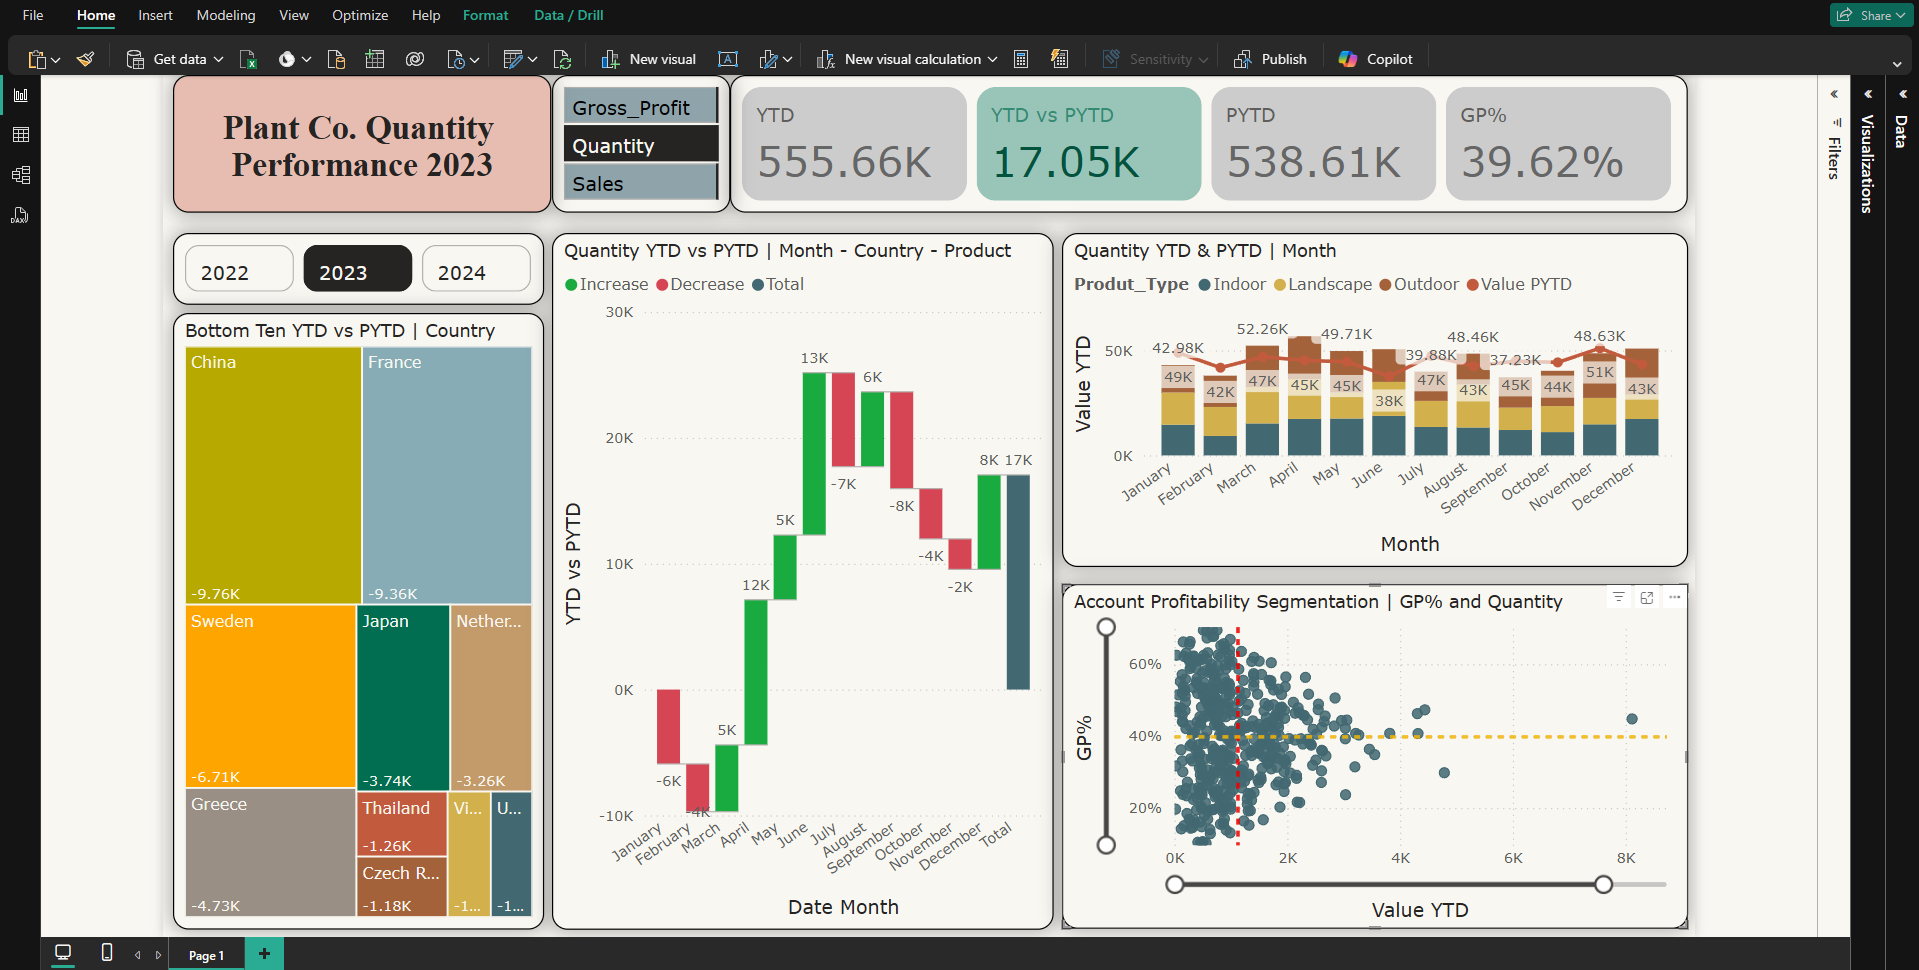

What the dashboard file says about the page in this screenshot:
{"tool":"powerbi","page":{"name":"Page 1","canvas":[1280,720],"ordinal":0},"visuals":[{"type":"cardVisual","fields":{"Data":["_Measures.switch_YTD","_Measures.YTD vs PYTD","_Measures.switch_PYTD","_Measures.GP%"]},"box":[473.6,0,800,115.5],"z":0},{"type":"advancedSlicerVisual","fields":{"Values":["Dim_Date.Date.Variation.Date Hierarchy.Year"]},"box":[8.2,131.8,310,60],"z":1000},{"type":"advancedSlicerVisual","fields":{"Values":["Slicer_values.Values"]},"box":[324.5,0,149.1,115.5],"z":2000},{"type":"treemap","title":"Bottom Ten YTD vs PYTD | Country","fields":{"Group":["Dim_Account.country"],"Values":["_Measures.YTD vs PYTD"]},"box":[8.2,199.1,310,514.5],"z":3000},{"type":"waterfallChart","fields":{"Y":["_Measures.YTD vs PYTD"],"Category":["Dim_Date.Date.Variation.Date Hierarchy.Month","Dim_Account.country","Dim_Product.Produt_Type","Dim_Product.Product_Name"]},"box":[324.5,131.8,419.1,581.8],"z":4000},{"type":"lineStackedColumnComboChart","fields":{"Y":["_Measures.switch_YTD"],"Y2":["_Measures.switch_PYTD"],"Category":["Dim_Date.Date.Variation.Date Hierarchy.Quarter","Dim_Date.Date.Variation.Date Hierarchy.Month"],"Series":["Dim_Product.Produt_Type"]},"box":[750.9,131.8,522.7,279.1],"z":5000},{"type":"scatterChart","fields":{"Y":["_Measures.GP%"],"X":["_Measures.switch_YTD"],"Category":["Dim_Account.Account"]},"box":[750.9,425.5,522.7,288.2],"z":6000},{"type":"card","fields":{"Values":["_Measures._Report Title"]},"box":[8.2,0,316.4,115.5],"z":7000}]}

Visuals, with their boxes on the page's 1280x720 design canvas (x1, y1, x2, y2). These are canvas units, not pixel positions in the 1919x970 screenshot, which may show the page scaled, cropped or inside an application window:
cardVisual - _Measures.switch_YTD x _Measures.YTD vs PYTD: (474, 0, 1274, 116)
advancedSlicerVisual - Dim_Date.Date.Variation.Date Hierarchy.Year: (8, 132, 318, 192)
advancedSlicerVisual - Slicer_values.Values: (324, 0, 474, 116)
"Bottom Ten YTD vs PYTD | Country" treemap: (8, 199, 318, 714)
waterfallChart - _Measures.YTD vs PYTD x Dim_Date.Date.Variation.Date Hierarchy.Month: (324, 132, 744, 714)
lineStackedColumnComboChart - _Measures.switch_YTD x _Measures.switch_PYTD: (751, 132, 1274, 411)
scatterChart - _Measures.GP% x _Measures.switch_YTD: (751, 426, 1274, 714)
card - _Measures._Report Title: (8, 0, 325, 116)
